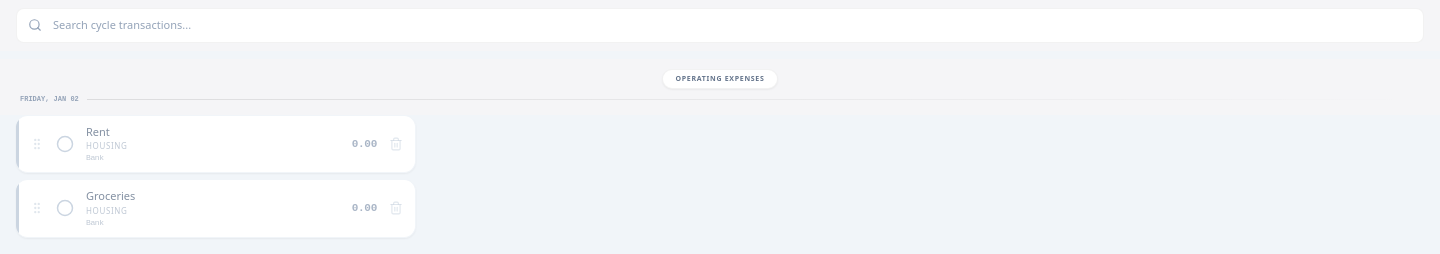
Test: TransactionList › given the search input is filled, when debounce elapses, then non-matching transactions are filtered out of the rendered list
Type "rent" into the field with placeholder "Search cycle transactions...".
click(720, 25); type("rent")  # box [16, 8, 1424, 42]
Wait 300 ms
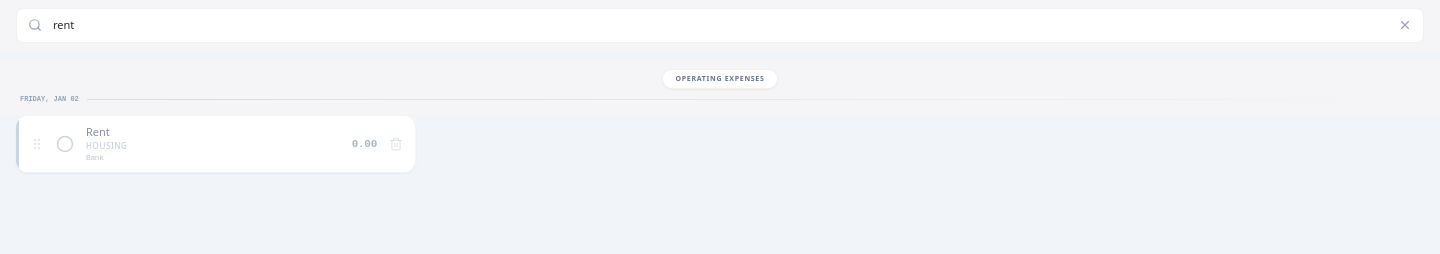
Check: the element with id "tx-row-tx-a" is shown, box [16, 114, 416, 173]
Check: the element with id "tx-row-tx-b" is gone
